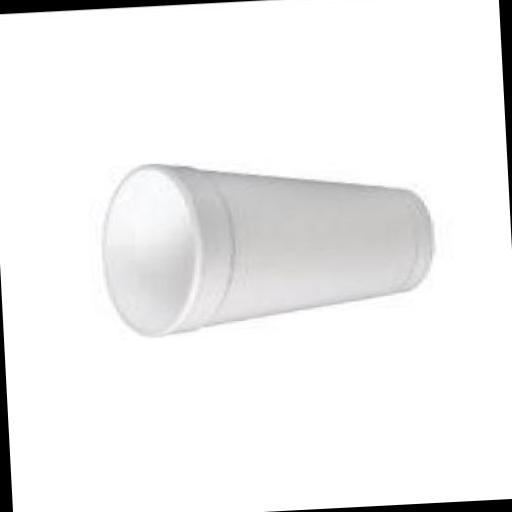paper: (94, 146, 436, 333)
